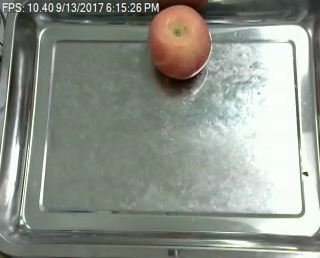Apple: (150, 4, 211, 80)
